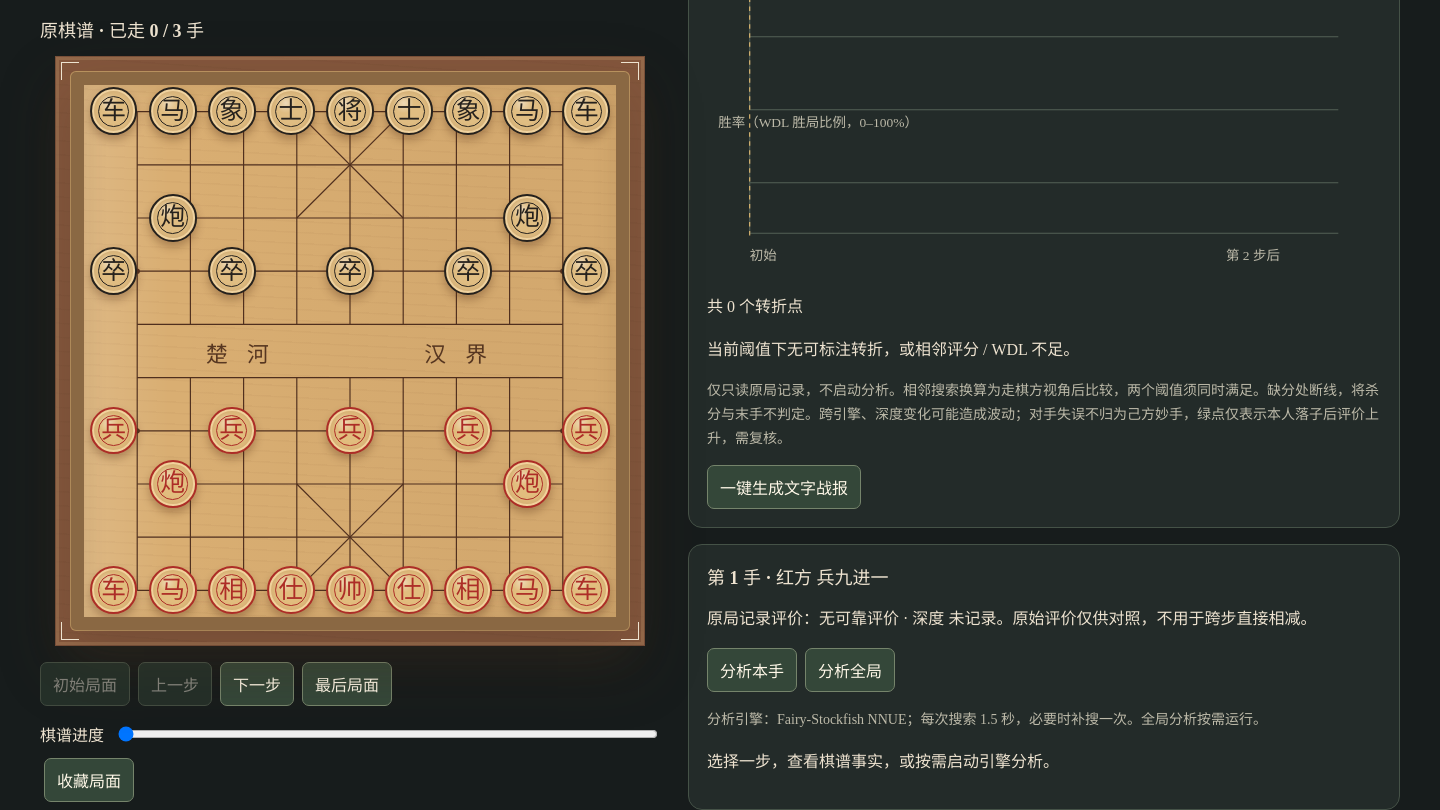
无引擎也可逐步浏览，仅按需分析；退出释放引擎
The width and height of the screenshot is (1440, 810).
(page scrolled)
Click the button "下一步" at x=257, y=684, box [220,662,294,706]
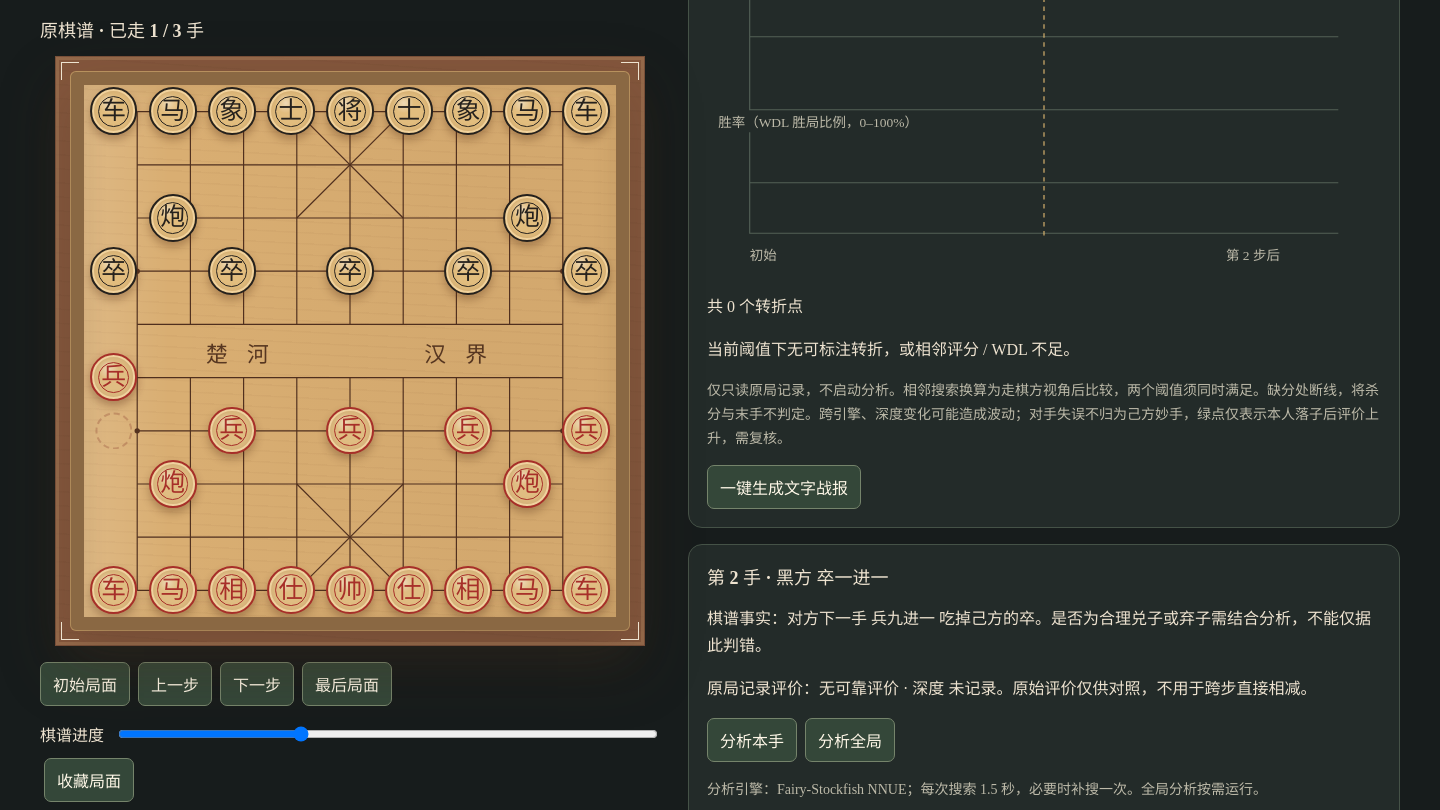
Expected: the heading "原棋谱 · 已走 1 / 3 手" is shown, [40,21,204,41]
Expected: the text "己方的卒" is shown, [707,610,1371,654]
Click the button "分析本手" at x=752, y=740, box [707,718,797,762]
(page scrolled)
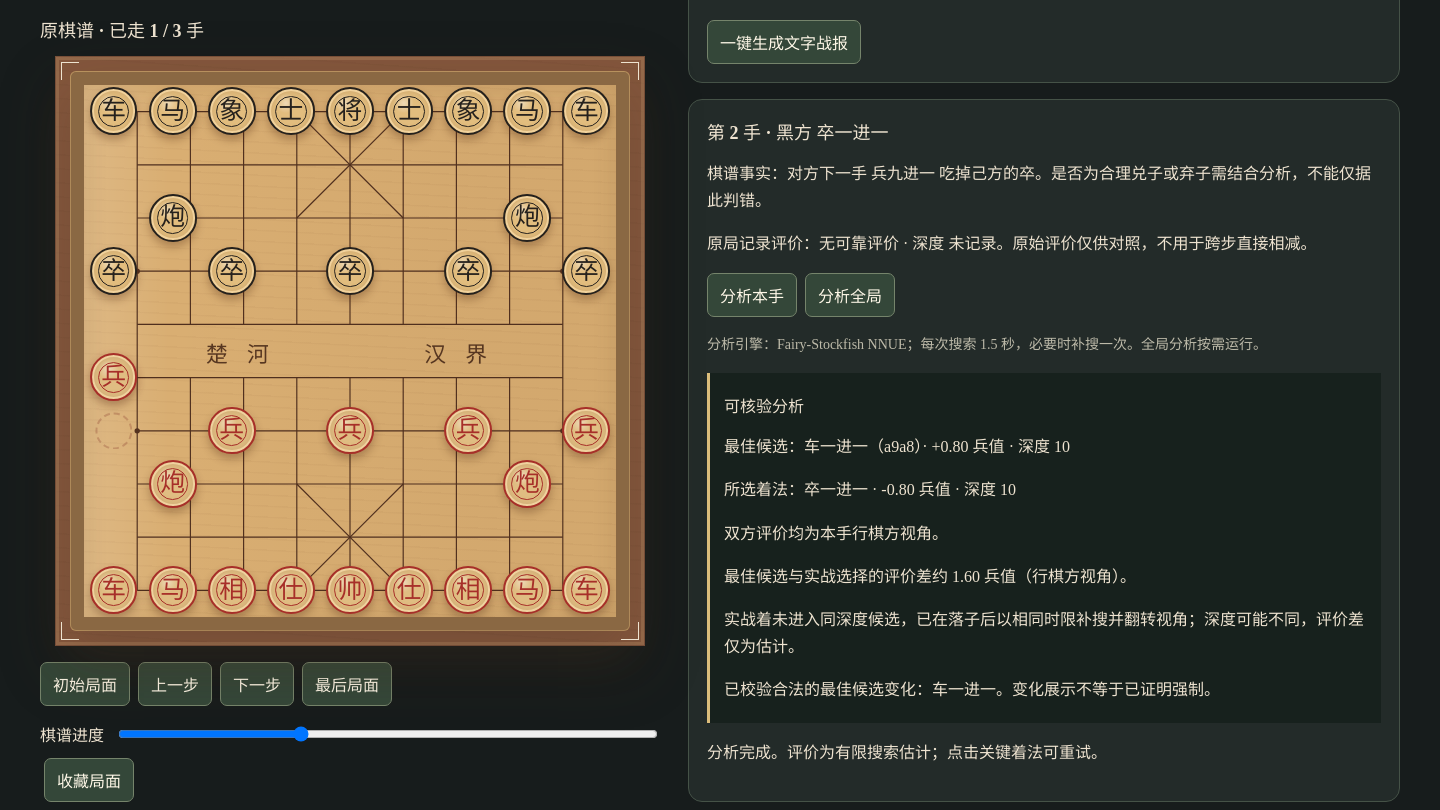
Expected: the heading "可核验分析" is shown, [724,398,804,415]
